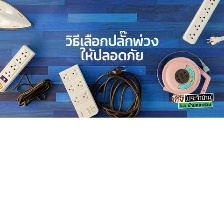three_eye_plug: (157, 53, 211, 104), (55, 61, 101, 118), (0, 43, 38, 94), (180, 0, 223, 45)
